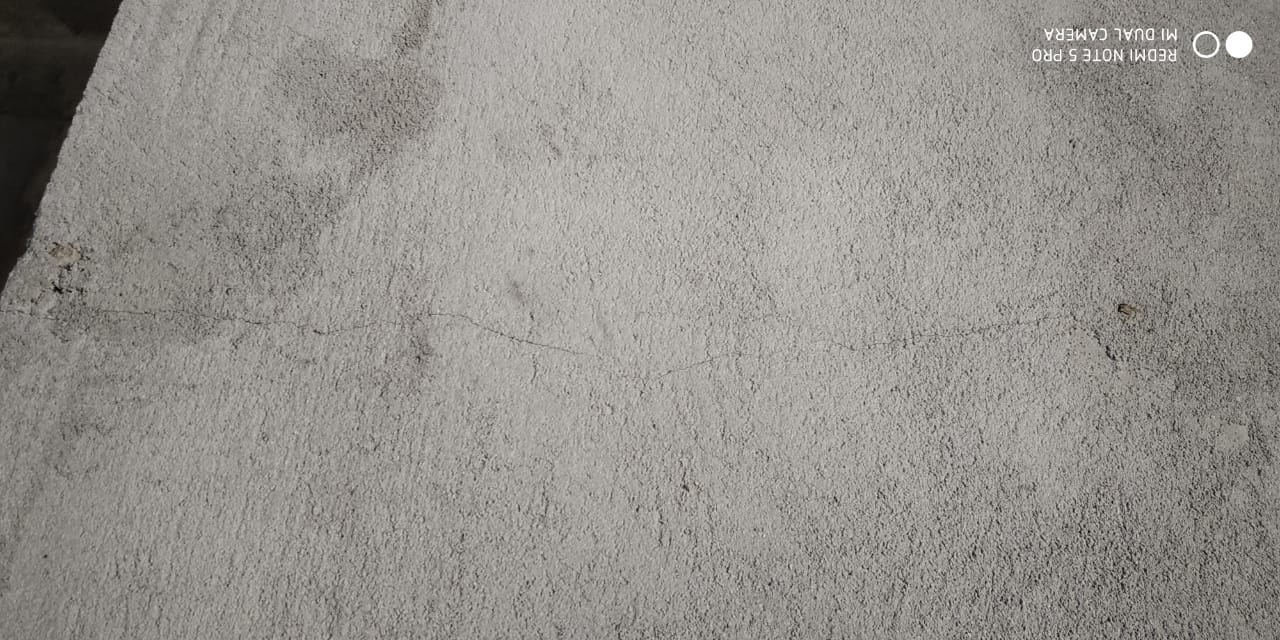crack: (9, 299, 585, 354), (647, 310, 1120, 369)
